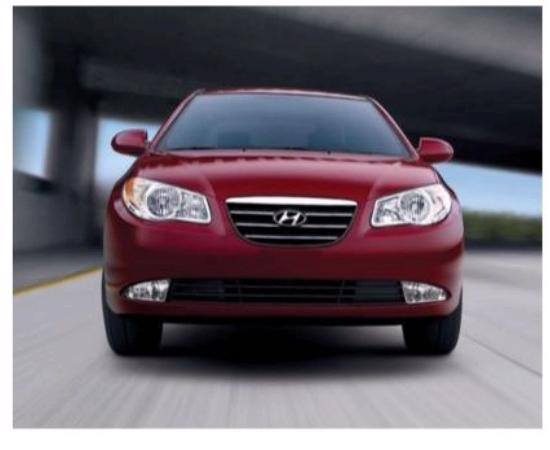car: (78, 79, 518, 381)
